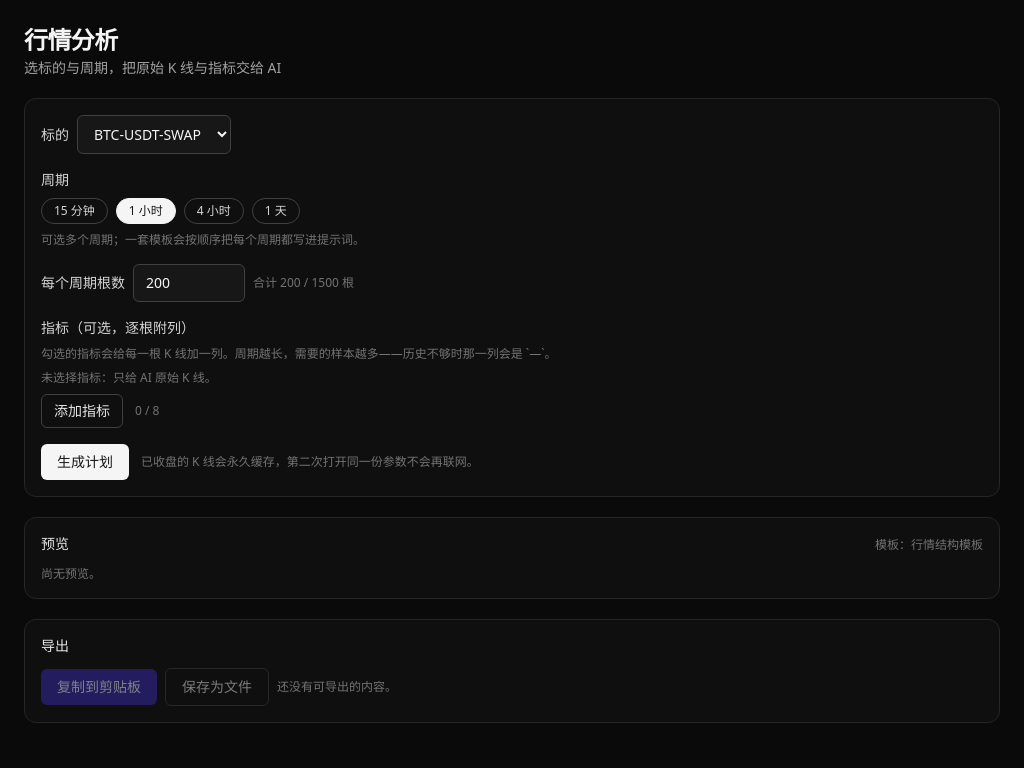
Test: KlinePage 指标区 › 默认 EMA20；重复项被静默去重；换种类带出该种类的默认周期；删空回到说明文案
Click the button "添加指标" at (82, 411), box [41,394,123,428]
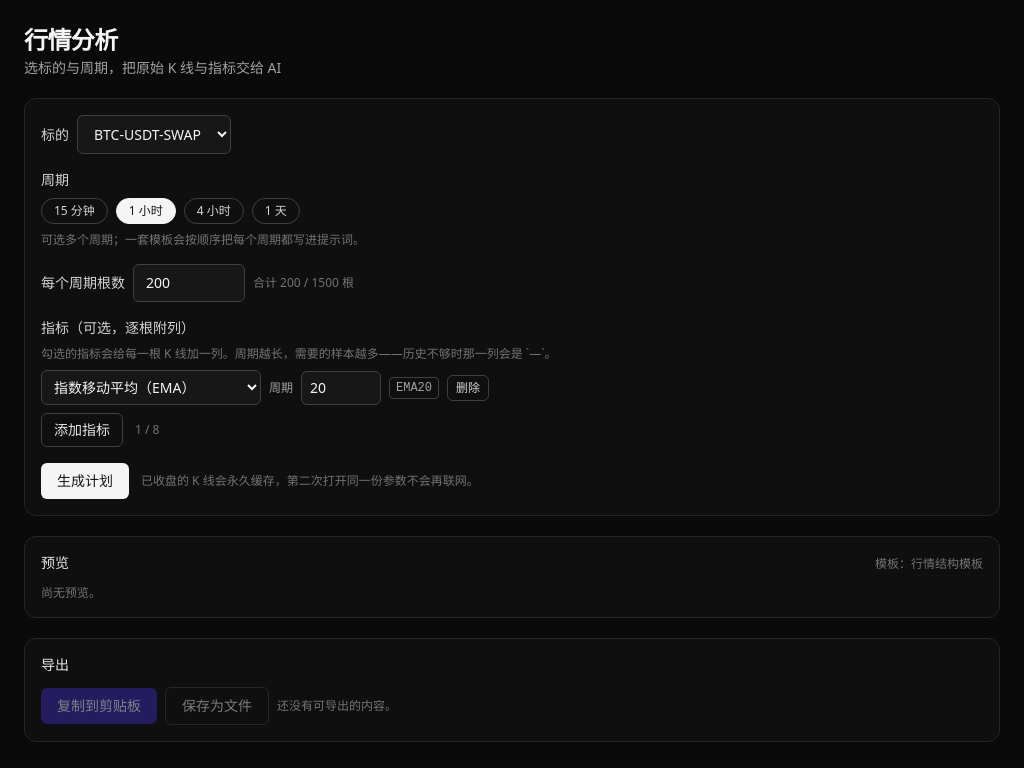
Click the button "添加指标" at (82, 430), box [41,413,123,447]
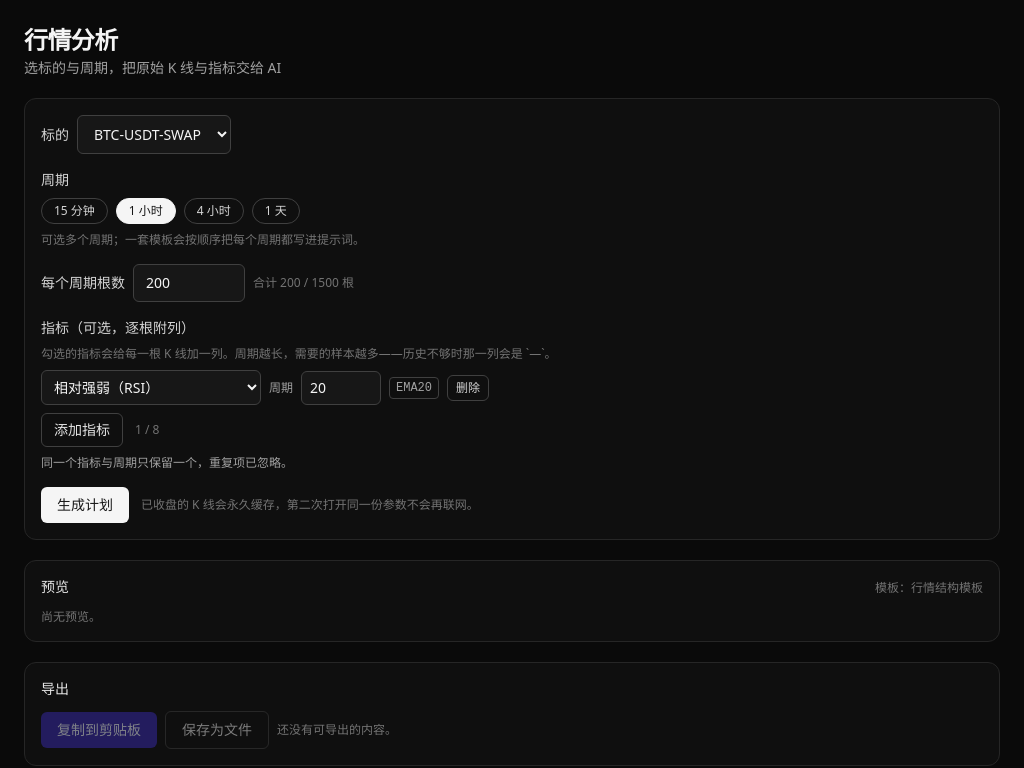
Check: the text "同一个指标与周期只保留一个，重复项已忽略。" is shown, box [41,454,293,471]
Select "相对强弱（RSI）" in the 2nd dropdown at (151, 388), box [41,370,261,405]
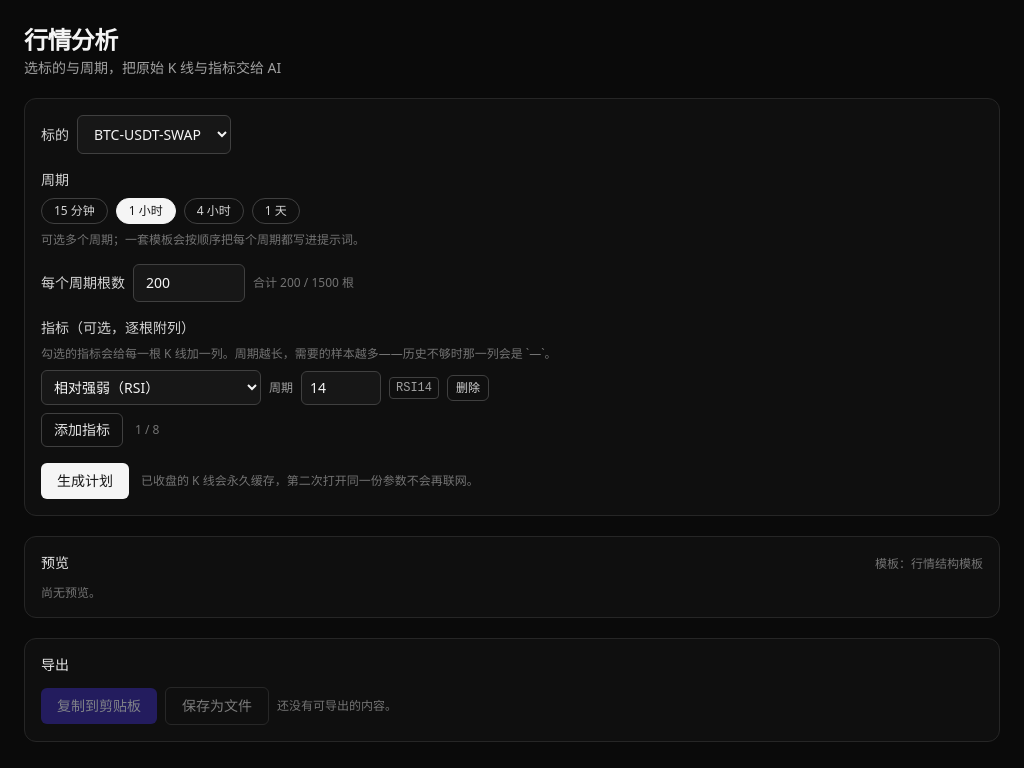
Check: the number field labelled "周期" holds "14", box [301,370,381,404]
Check: the text "同一个指标与周期只保留一个，重复项已忽略。" is gone
Click the button "删除" at (468, 388), box [447,374,489,400]
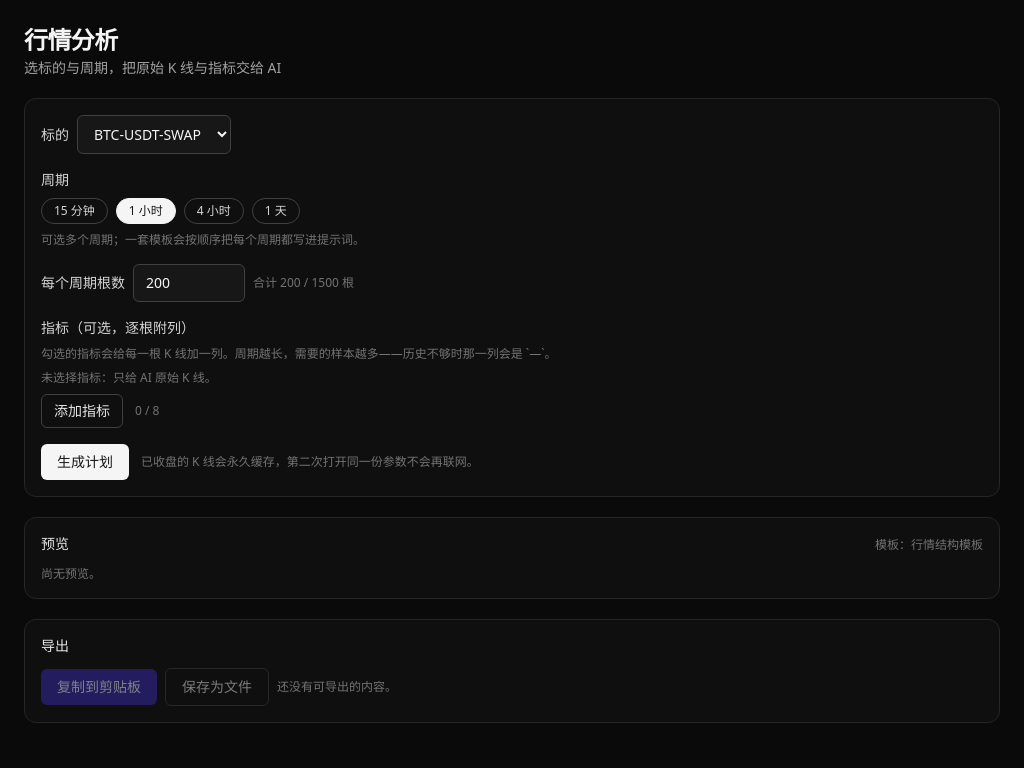
Check: the text "未选择指标：只给 AI 原始 K 线。" is shown, box [41,369,217,386]
